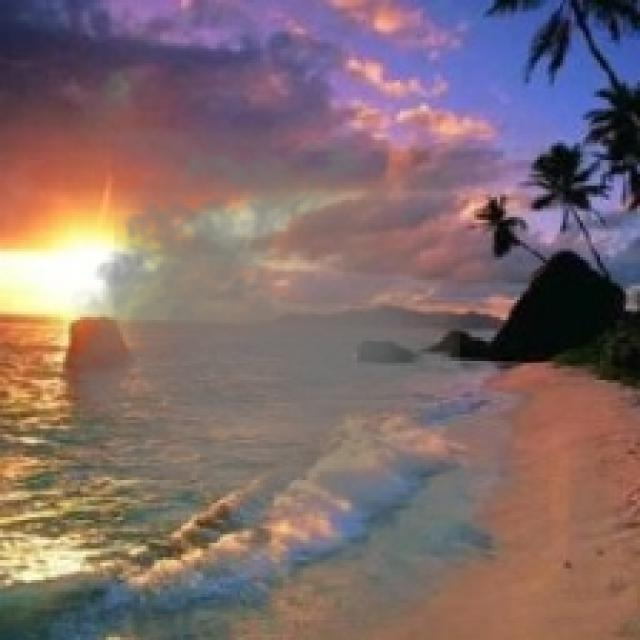Smoke: (46, 126, 460, 523)
